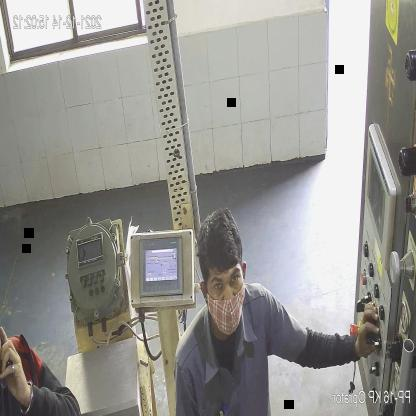no_goggles: (208, 266, 243, 298)
